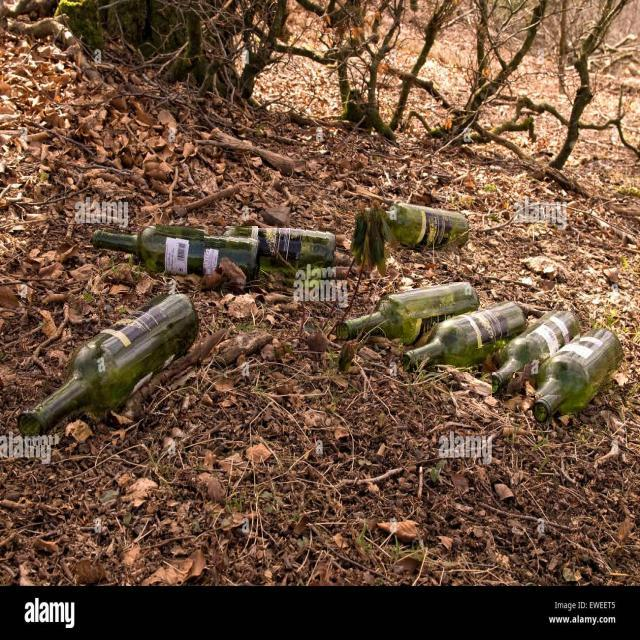Glass: (22, 294, 202, 446), (89, 226, 258, 293), (336, 282, 481, 344), (404, 304, 530, 372), (535, 328, 625, 422), (204, 228, 336, 290), (492, 312, 583, 398), (368, 198, 468, 250)
